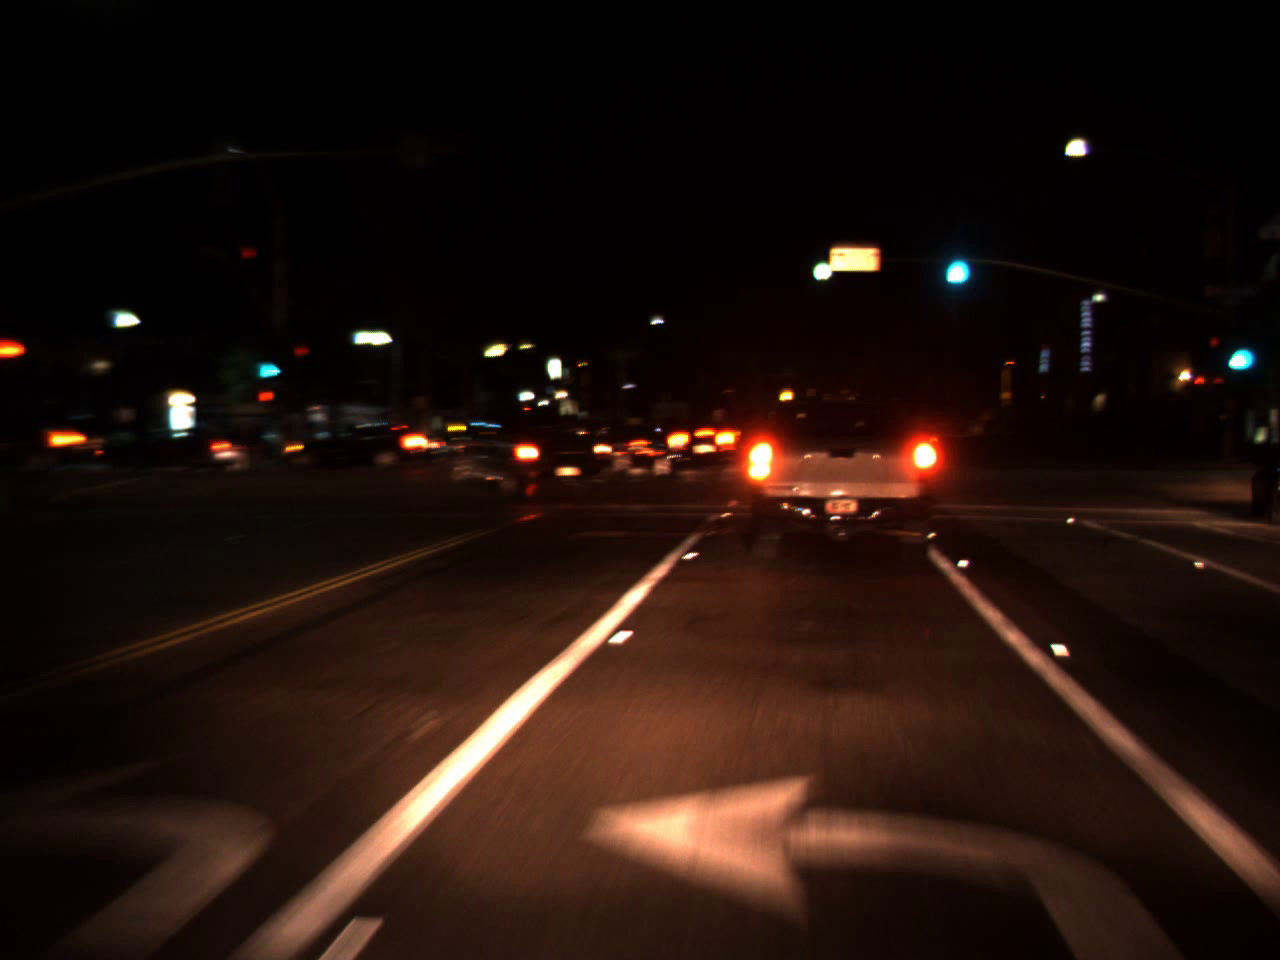go: (938, 230, 974, 293), (1222, 321, 1258, 378), (250, 349, 286, 382), (807, 241, 833, 286)
